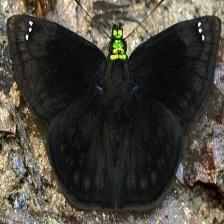butterfly: (7, 15, 221, 210)
